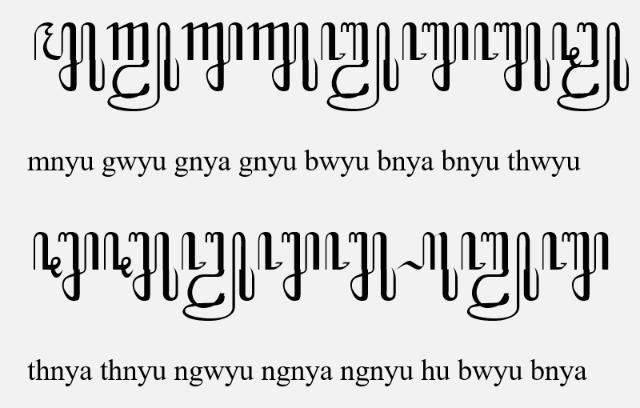_hu: (396, 230, 459, 302)
bny: (541, 230, 609, 302), (402, 22, 470, 92)
bnyu: (474, 22, 550, 92)
bwyu: (320, 21, 400, 113), (460, 231, 540, 321)
gny: (180, 22, 243, 92)
gnyu: (247, 22, 319, 92)
gwyu: (106, 21, 180, 113)
mnyu: (33, 22, 105, 92)
ngnya: (257, 232, 321, 302)
ngnyu: (324, 231, 398, 301)
ngwyu: (180, 230, 256, 322)
thny: (32, 231, 100, 301)
thnyu: (102, 230, 180, 302)
thwyu: (550, 21, 630, 113)
